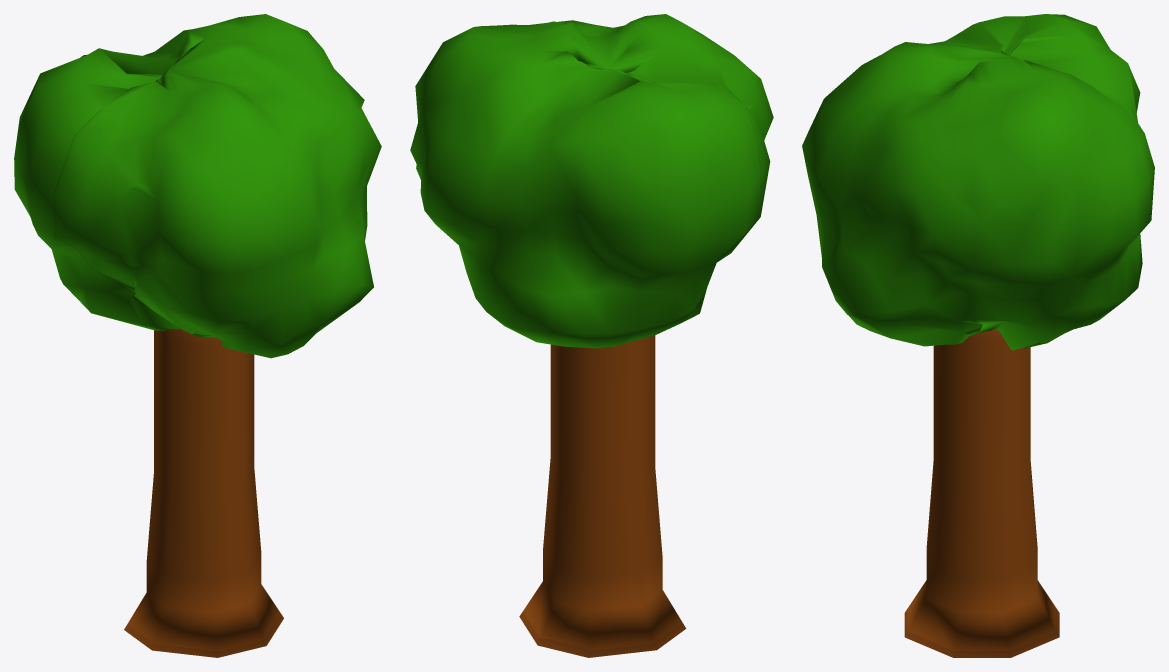
Rendered from Tree.obj.
3 views of the same model, side by side, from view 1: azimuth 30°, elevation 25°; view 2: azimuth 150°, elevation 25°; view 3: azimuth 270°, elevation 25° (orthographic). The views are drawn at different scales.
Visible parts, largest first — view 1: Sphere, Cube; view 2: Sphere, Cube; view 3: Sphere, Cube.
Boxes of the visible parts, x1,y1,x2,y2 form: Sphere: [14, 14, 381, 358]; Cube: [124, 328, 283, 657]; Sphere: [410, 14, 773, 348]; Cube: [519, 335, 686, 657]; Sphere: [802, 14, 1154, 350]; Cube: [904, 329, 1059, 657].
Size of the model in its own units: 4.76 by 8.23 by 4.55.
1 material, 1 textured.
